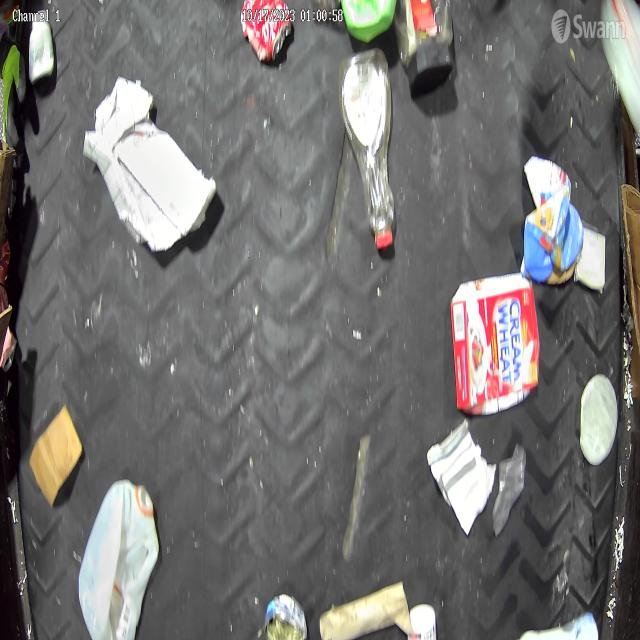can: (242, 0, 294, 62), (263, 591, 307, 640)
milk_jug: (80, 473, 160, 640)
non_white_jug: (524, 156, 583, 279)
plastic_bottle: (342, 55, 399, 252)
